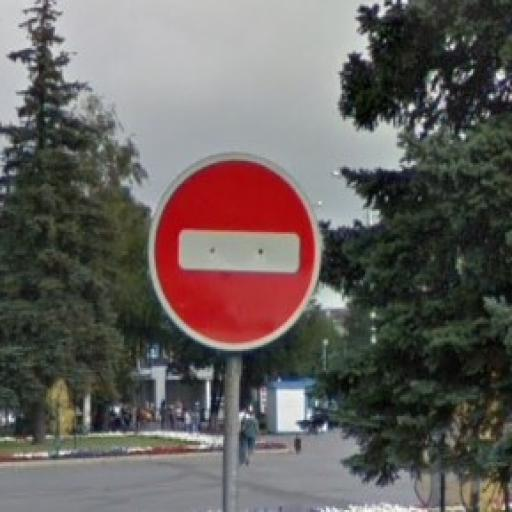traffic_sign: (144, 149, 327, 358)
